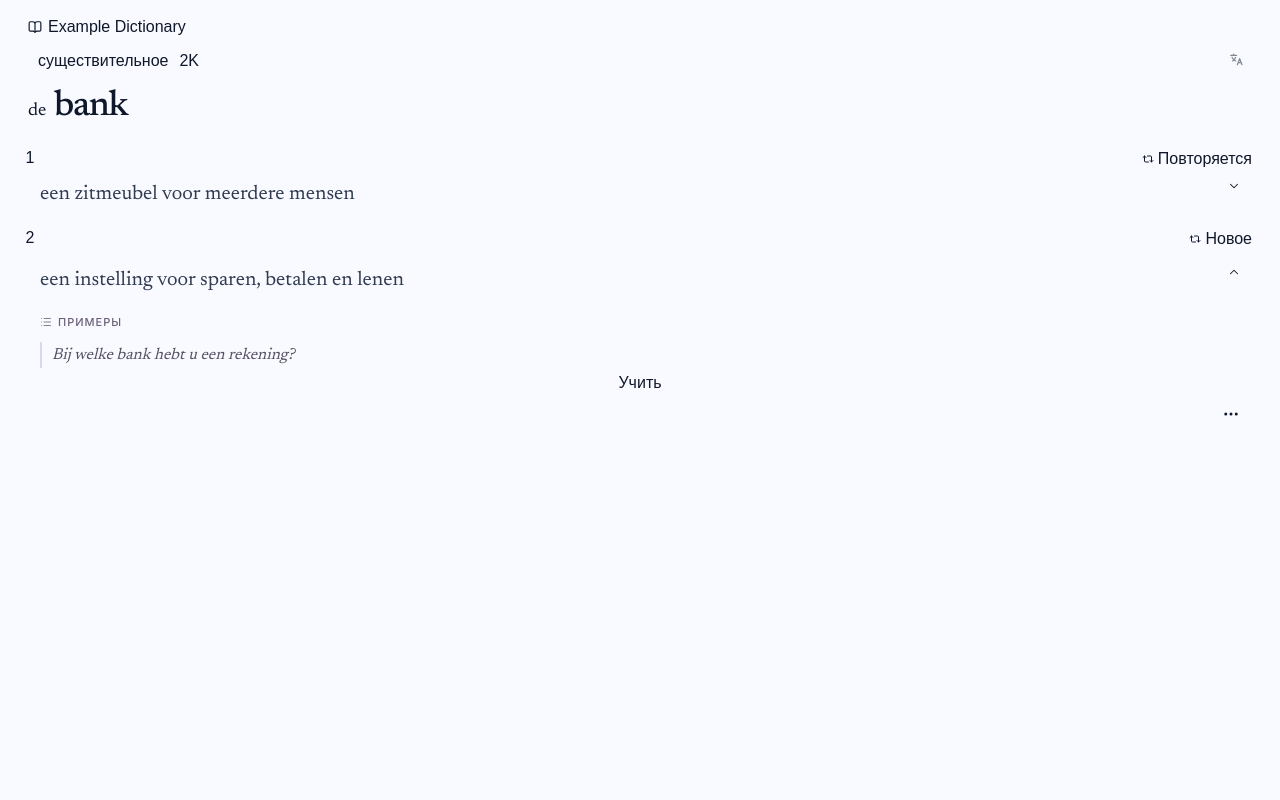
Test case: Library word exclusion menu is read-only until the explicit localized action (ru)
This screenshot has width=1280, height=800.
Click the button named "Другие действия с карточкой" at (1231, 414), box [1222,400,1240,428]
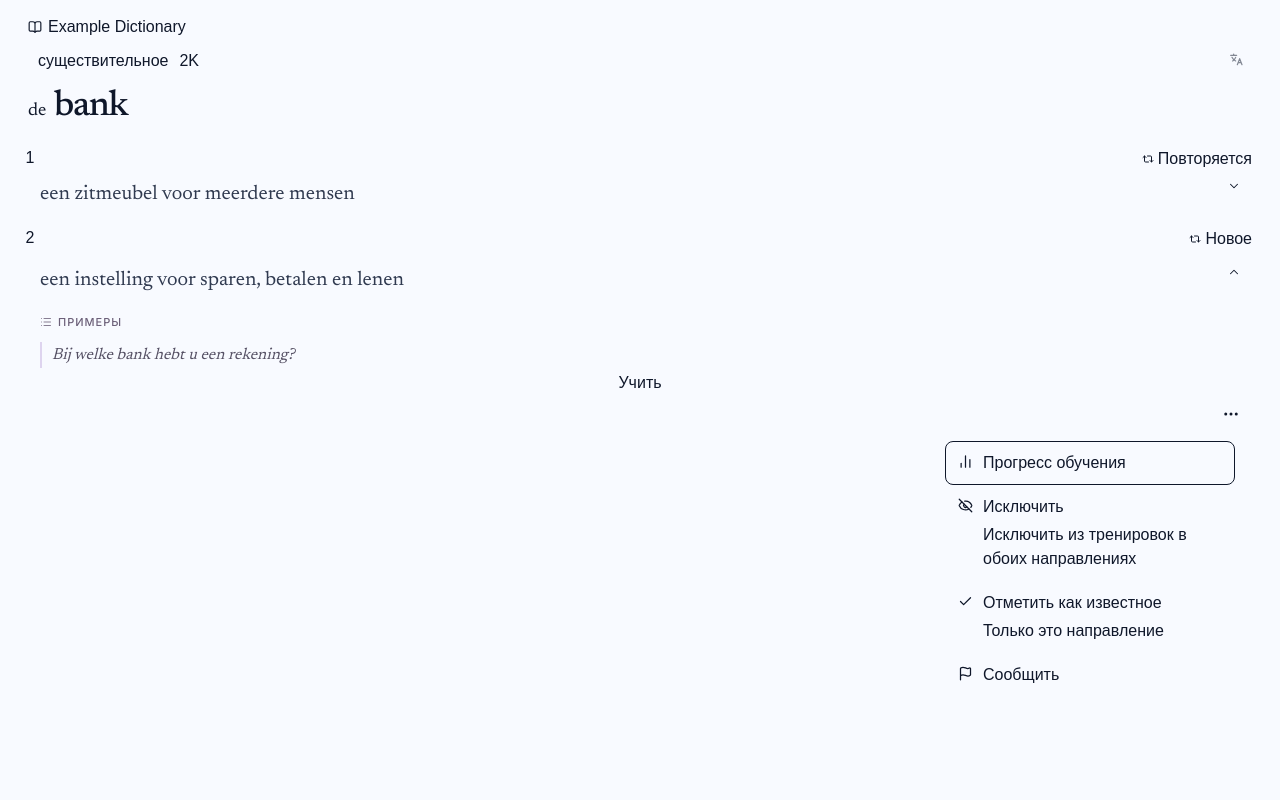
Check: the number of menu items is 4
Click the menu item "Исключить" at (1090, 533), box [945,485,1235,581]
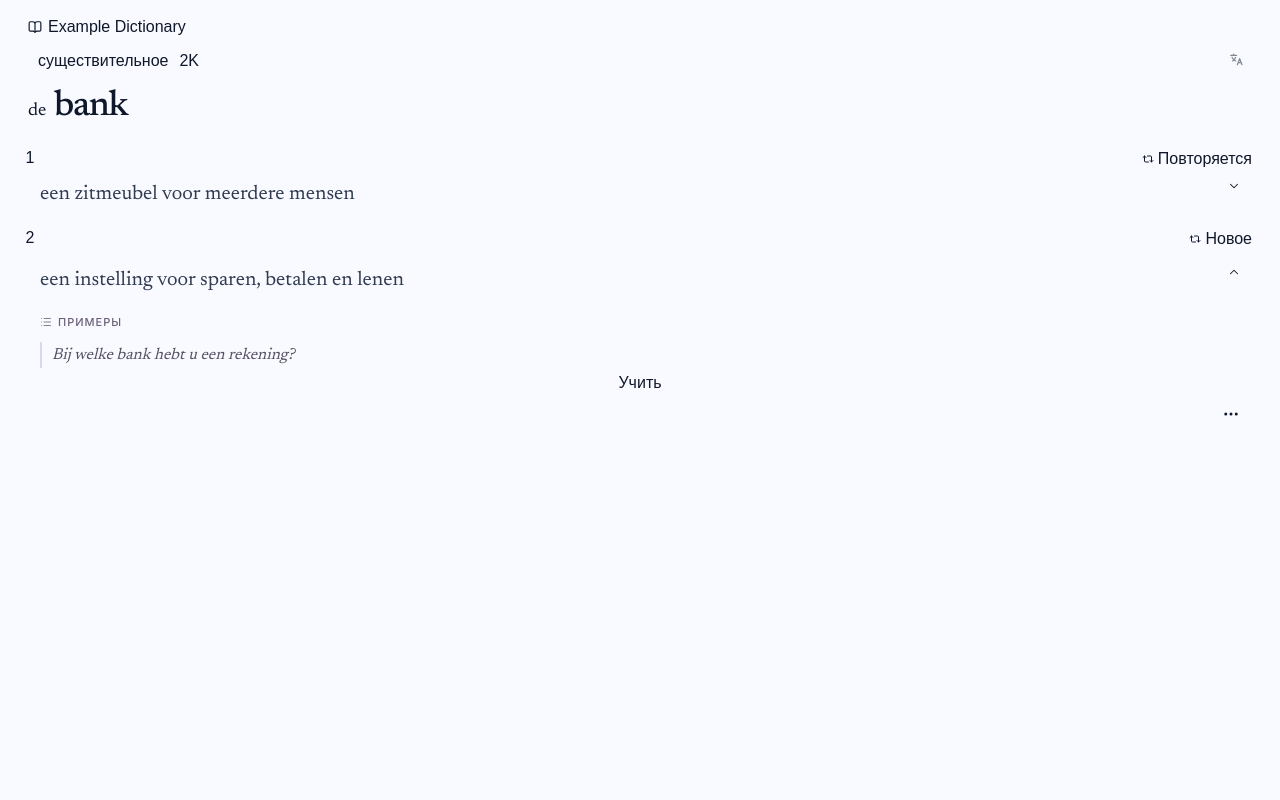
Check: the menu is gone
